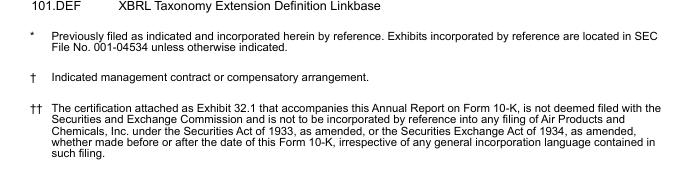table: (29, 28, 660, 158)
table column: (46, 28, 660, 158), (29, 28, 46, 158)
table row: (29, 91, 660, 158), (29, 28, 660, 61), (29, 61, 660, 91)
